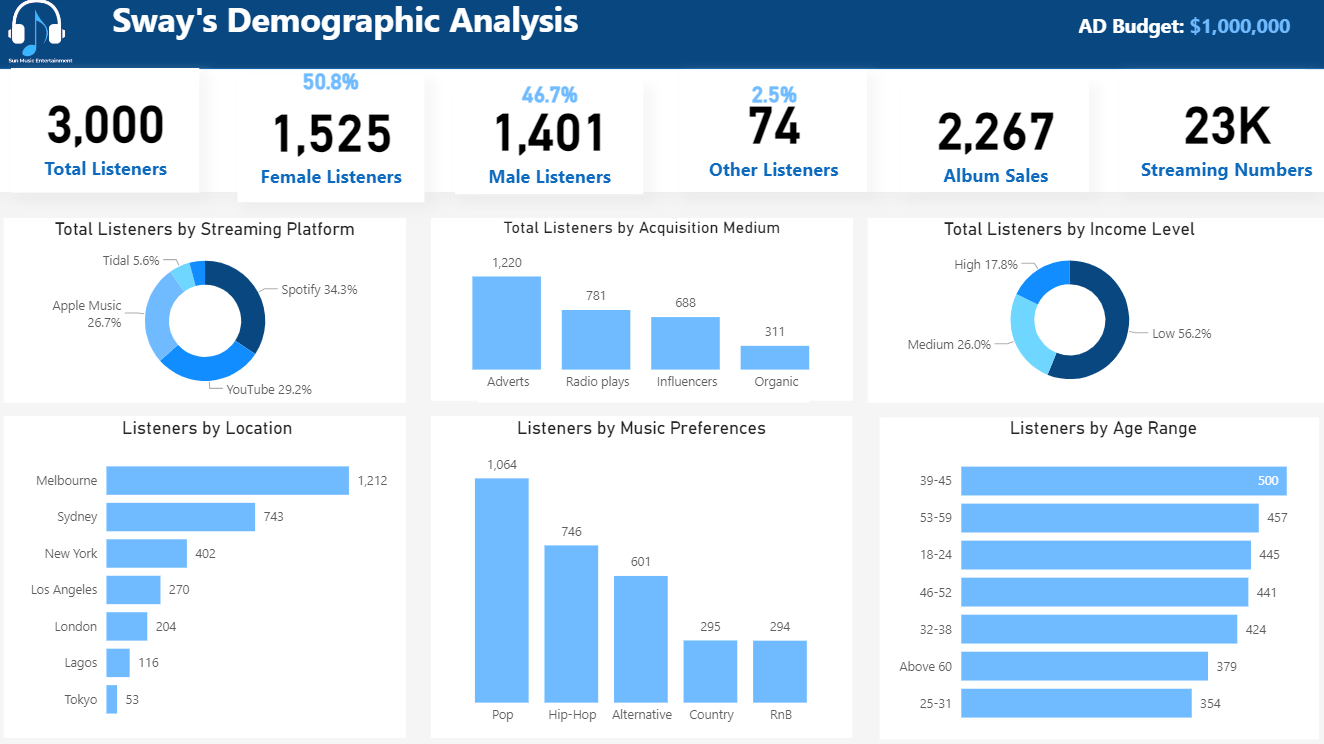

This screenshot's page, from the dashboard's own definition file:
{"tool":"powerbi","page":{"name":"Sway's Analysis","canvas":[1280,720],"ordinal":1},"visuals":[{"type":"shape","box":[0,0,1280.5,75.6],"z":0},{"type":"shape","box":[0,75.9,1253.5,116.6],"z":1000},{"type":"card","fields":{"Values":["Measures Table.TotalListeners"]},"box":[20.4,74.1,179.6,118.5],"z":2000},{"type":"card","fields":{"Values":["Measures Table.Male Listeners"]},"box":[442.5,87,179.6,107.4],"z":3000},{"type":"card","fields":{"Values":["Measures Table.Other Listeners"]},"box":[657.3,75.9,177.7,116.6],"z":4000},{"type":"card","fields":{"Values":["Measures Table.Streaming Numbers"]},"box":[868.4,87,177.7,105.5],"z":5000},{"type":"card","fields":{"Values":["Measures Table.FemaleListeners"]},"box":[235.1,81.5,177.7,120.3],"z":6000},{"type":"card","fields":{"Values":["Measures Table.Streaming Numbers"]},"box":[1075.7,75.9,203.7,116.6],"z":7000},{"type":"card","fields":{"Values":["Measures Table.%females"]},"box":[288.8,64.8,70.4,44.4],"z":8000},{"type":"card","fields":{"Values":["Measures Table.%others"]},"box":[711,75.9,70.4,46.3],"z":9000},{"type":"card","fields":{"Values":["Measures Table.%males"]},"box":[496.2,75.9,74.1,46.3],"z":10000},{"type":"textbox","box":[1032,16.2,240.4,41.9],"z":11000},{"type":"shape","box":[13.5,405.2,383.6,306.6],"z":12000},{"type":"barChart","title":"Listeners by Location","fields":{"Category":["listeners_dataset.Location"],"Y":["Measures Table.Total Listeners"]},"box":[28.4,406.6,356.6,301.2],"z":13000},{"type":"shape","box":[420.1,405.2,401.2,306.6],"z":14000},{"type":"shape","box":[846.9,406.6,418.7,306.6],"z":15000},{"type":"shape","box":[835,216.6,444.4,175.9],"z":16000},{"type":"columnChart","title":"Listeners by Music Preferences","fields":{"Category":["listeners_dataset.Music_Preferences"],"Y":["Measures Table.Total Listeners"]},"box":[429.6,406.6,380.9,301.2],"z":17000},{"type":"barChart","title":"Listeners by Age Range","fields":{"Category":["listeners_dataset.Age Range"],"Y":["Measures Table.Total Listeners"]},"box":[856.4,406.6,409.3,305.3],"z":18000},{"type":"donutChart","title":"Total Listeners by Income Level","fields":{"Category":["listeners_dataset.Income_Level"],"Y":["Measures Table.Total Listeners"]},"box":[846.1,216.6,364.7,174],"z":19000},{"type":"donutChart","title":"Total Listeners by Streaming Platform","fields":{"Category":["Sheet1 (2).Streaming_Platform"],"Y":["Measures Table.Total Listeners"]},"box":[13,216.6,383.3,175.9],"z":20000},{"type":"shape","box":[464.7,243.1,316.1,149.9],"z":21000},{"type":"columnChart","title":"Total Listeners by Acquisition Medium","fields":{"Category":["listeners_dataset.Acquisition_Medium"],"Y":["Measures Table.Total Listeners"]},"box":[420.3,216.6,401.8,174],"z":22000},{"type":"textbox","box":[111.1,0,546.2,75.9],"z":23000},{"type":"image","box":[0,0,93.2,75.6],"z":24000}]}

Visuals, with their boxes in screenshot pixels (x1, y1, x2, y2), scaled from the page's 1280x720 canvas onto the 1324x744 screenshot:
shape: 0:0:1323:78
shape: 0:78:1297:199
card - Measures Table.TotalListeners: 21:77:207:199
card - Measures Table.Male Listeners: 458:90:643:201
card - Measures Table.Other Listeners: 680:78:864:199
card - Measures Table.Streaming Numbers: 898:90:1082:199
card - Measures Table.FemaleListeners: 243:84:427:209
card - Measures Table.Streaming Numbers: 1113:78:1323:199
card - Measures Table.%females: 299:67:372:113
card - Measures Table.%others: 735:78:808:126
card - Measures Table.%males: 513:78:590:126
textbox: 1067:17:1316:60
shape: 14:419:411:736
"Listeners by Location" barChart: 29:420:398:731
shape: 435:419:850:736
shape: 876:420:1309:737
shape: 864:224:1323:406
"Listeners by Music Preferences" columnChart: 444:420:838:731
"Listeners by Age Range" barChart: 886:420:1309:736
"Total Listeners by Income Level" donutChart: 875:224:1252:404
"Total Listeners by Streaming Platform" donutChart: 13:224:410:406
shape: 481:251:808:406
"Total Listeners by Acquisition Medium" columnChart: 435:224:850:404
textbox: 115:0:680:78
image: 0:0:96:78
